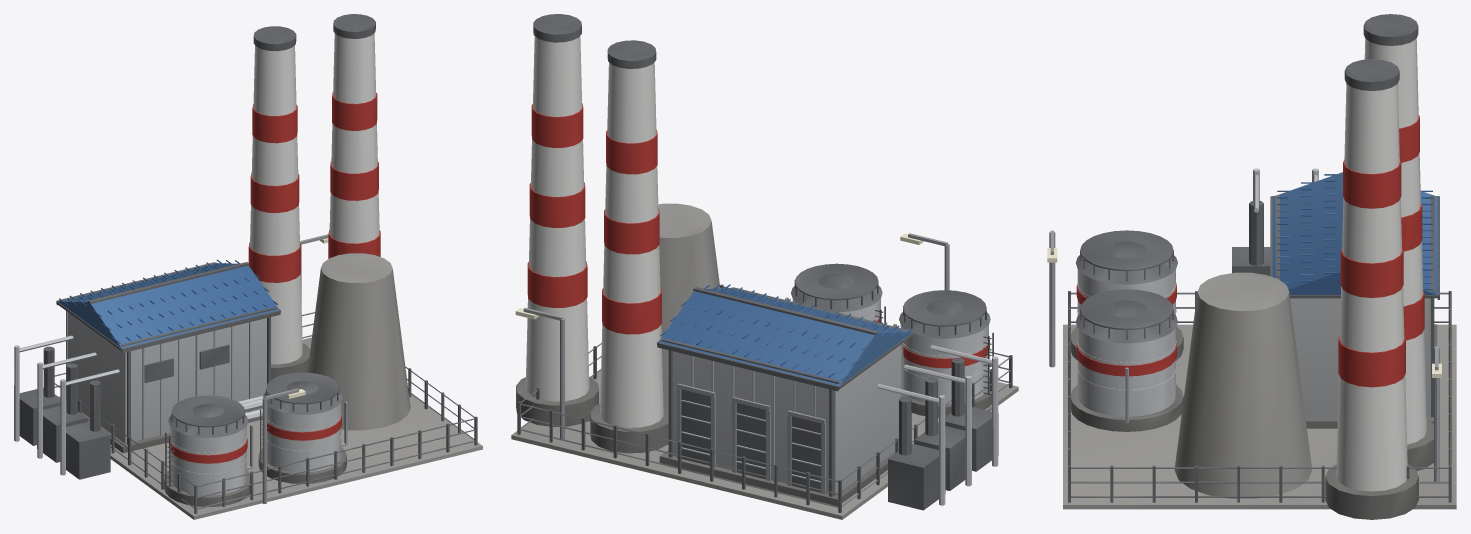
Rendered from Power_P2.fbx.
3 renders of one model, left to right at view 1: azimuth 30°, elevation 25°; view 2: azimuth 150°, elevation 25°; view 3: azimuth 270°, elevation 25°, orthographic. The views are drawn at different scales.
Parts seen in each view (by area): view 1: Power.Hall, Power.Stack0, Power.CoolingTowers, Power.Stack1, Power.Yard, Power.Switchyard, Power.Tank0, Power.Tank1, Power.Fence, Power.Lamp0; view 2: Power.Hall, Power.Stack0, Power.Stack1, Power.Switchyard, Power.Tank0, Power.Yard, Power.CoolingTowers, Power.Fence, Power.Tank1, Power.Lamp1, Power.Lamp0; view 3: Power.Stack1, Power.CoolingTowers, Power.Yard, Power.Hall, Power.Tank1, Power.Stack0, Power.Tank0, Power.Fence, Power.Switchyard, Power.Lamp0, Power.Lamp1.
Part boxes in pixels (x1,y1,x2,y2): Power.Hall: (56, 259, 280, 453); Power.Stack0: (248, 26, 310, 379); Power.CoolingTowers: (307, 253, 410, 430); Power.Stack1: (328, 14, 380, 258); Power.Yard: (110, 337, 482, 519); Power.Switchyard: (14, 335, 119, 479); Power.Tank0: (164, 395, 253, 506); Power.Tank1: (258, 372, 347, 483); Power.Fence: (54, 312, 477, 513); Power.Lamp0: (262, 388, 305, 503); Power.Hall: (657, 284, 914, 506); Power.Stack0: (590, 40, 668, 453); Power.Stack1: (516, 14, 598, 426); Power.Switchyard: (877, 345, 998, 510); Power.Tank0: (893, 290, 993, 417); Power.Yard: (511, 370, 1018, 519); Power.CoolingTowers: (658, 203, 720, 406); Power.Fence: (517, 284, 1012, 512); Power.Tank1: (785, 263, 885, 323); Power.Lamp1: (515, 307, 564, 439); Power.Lamp0: (900, 233, 949, 290); Power.Stack1: (1325, 59, 1418, 519); Power.CoolingTowers: (1174, 272, 1312, 498); Power.Yard: (1063, 324, 1456, 509); Power.Hall: (1270, 172, 1439, 428); Power.Tank1: (1071, 289, 1183, 431); Power.Stack0: (1363, 14, 1433, 471); Power.Tank0: (1071, 230, 1183, 360); Power.Fence: (1068, 291, 1451, 502); Power.Switchyard: (1232, 168, 1318, 275); Power.Lamp0: (1047, 230, 1057, 367); Power.Lamp1: (1432, 346, 1441, 481).
Bounding box in the file's own units: 3333 × 2921 × 2495.
